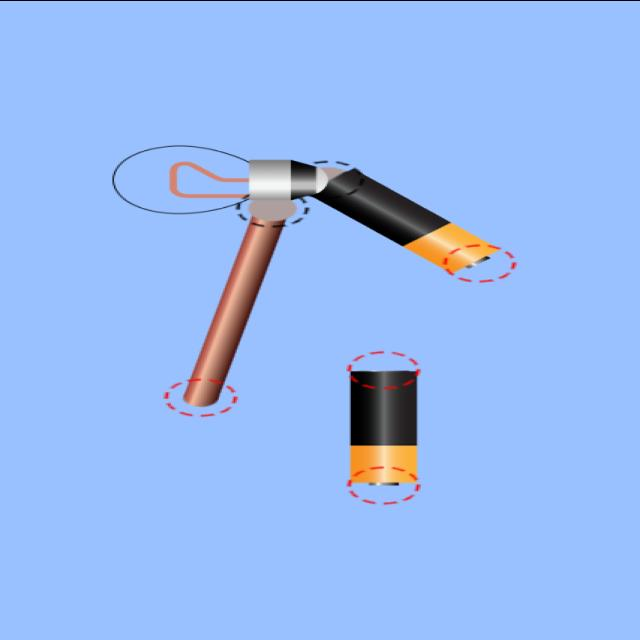Battery: (312, 169, 498, 272), (350, 370, 416, 484)
Light Bulb: (113, 144, 330, 212)
Wire: (182, 216, 282, 405)
